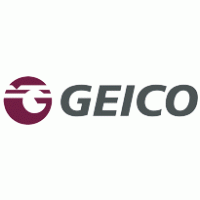Geico: (61, 84, 199, 117)
